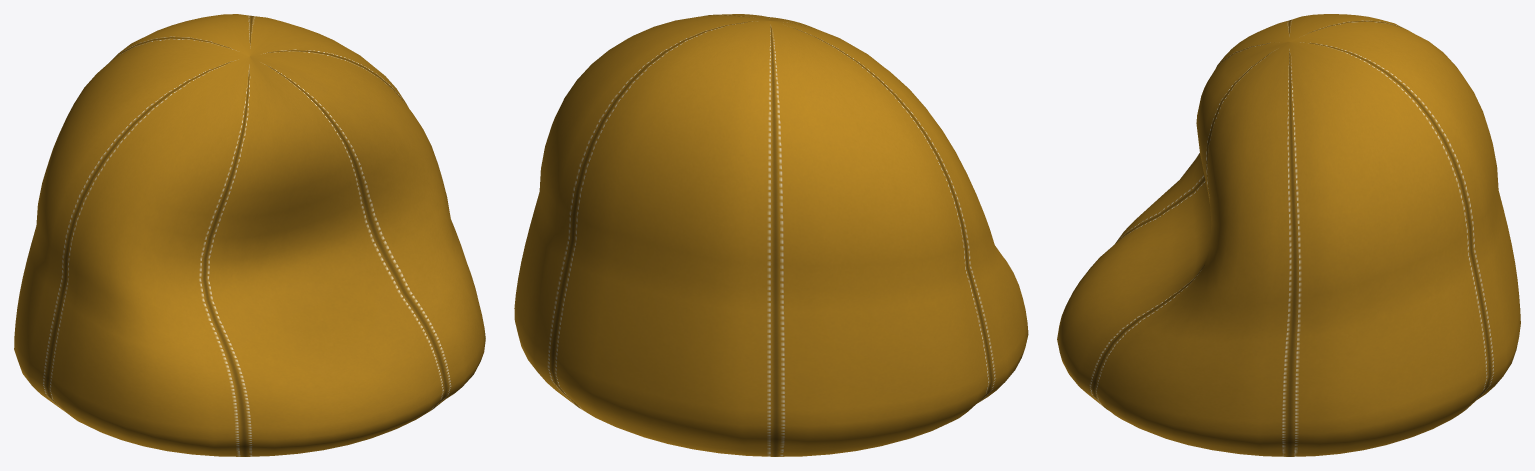
Rendered from beanbag.glb.
The picture shows the model from 3 angles, left to right: view 1: azimuth 30°, elevation 25°; view 2: azimuth 150°, elevation 25°; view 3: azimuth 270°, elevation 25°; orthographic projection. The views are drawn at different scales.
Parts seen in each view (by area): view 1: model; view 2: model; view 3: model.
Part boxes in pixels (box(x1,y1,x2,y2)): model: box(14, 14, 485, 456); model: box(514, 14, 1028, 456); model: box(1057, 14, 1520, 456).
Size of the model in its own units: 1.01 by 0.7758 by 0.96.
Materials: 1 (1 with a texture image).
